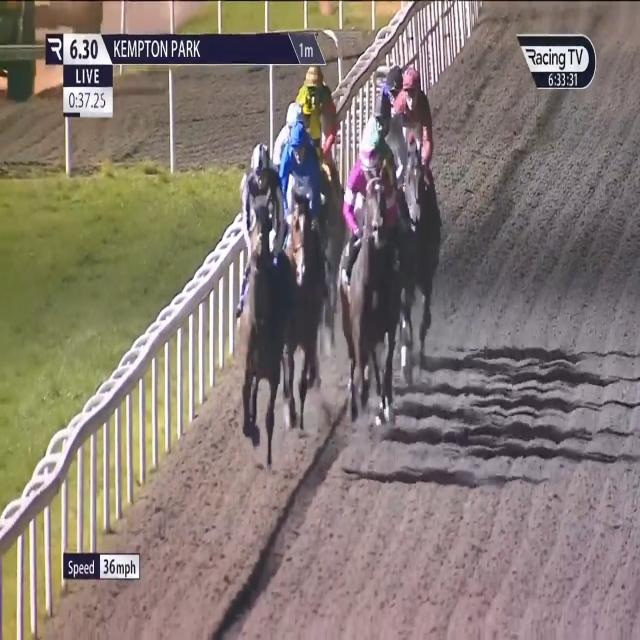horses-racing: (338, 138, 393, 425), (237, 142, 282, 446), (399, 66, 437, 299), (288, 126, 315, 386), (369, 91, 412, 182), (358, 121, 402, 187), (277, 103, 308, 169), (300, 67, 328, 136), (383, 62, 403, 111)
